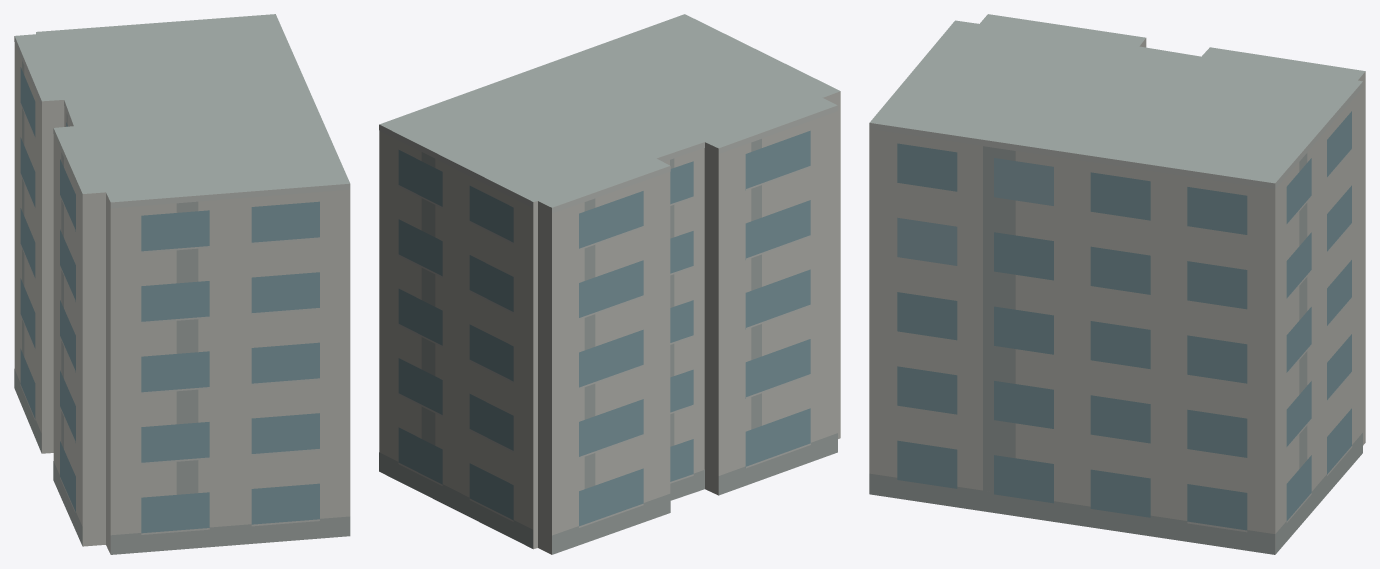
Rendered from survey-upis-32852648.glb.
3 renders of one model, left to right at view 1: azimuth 30°, elevation 25°; view 2: azimuth 150°, elevation 25°; view 3: azimuth 270°, elevation 25°, orthographic. The views are drawn at different scales.
Parts seen in each view (by area): view 1: survey-upis-32852648.tmp; view 2: survey-upis-32852648.tmp; view 3: survey-upis-32852648.tmp.
Part boxes in pixels (x1,y1,x2,y2): survey-upis-32852648.tmp: (14, 14, 350, 554); survey-upis-32852648.tmp: (379, 14, 840, 554); survey-upis-32852648.tmp: (869, 14, 1365, 554).
Size of the model in its own units: 13.95 by 14.25 by 17.26.
